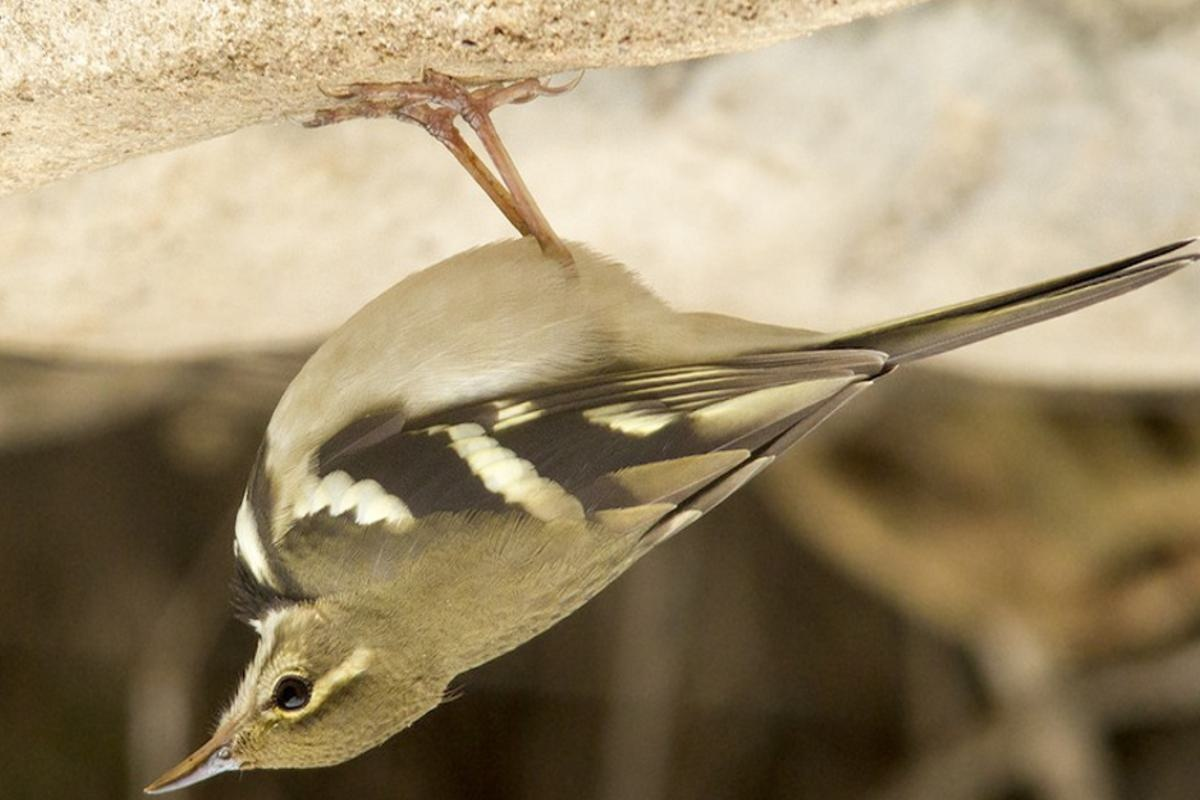wagtail: (159, 97, 1140, 788)
